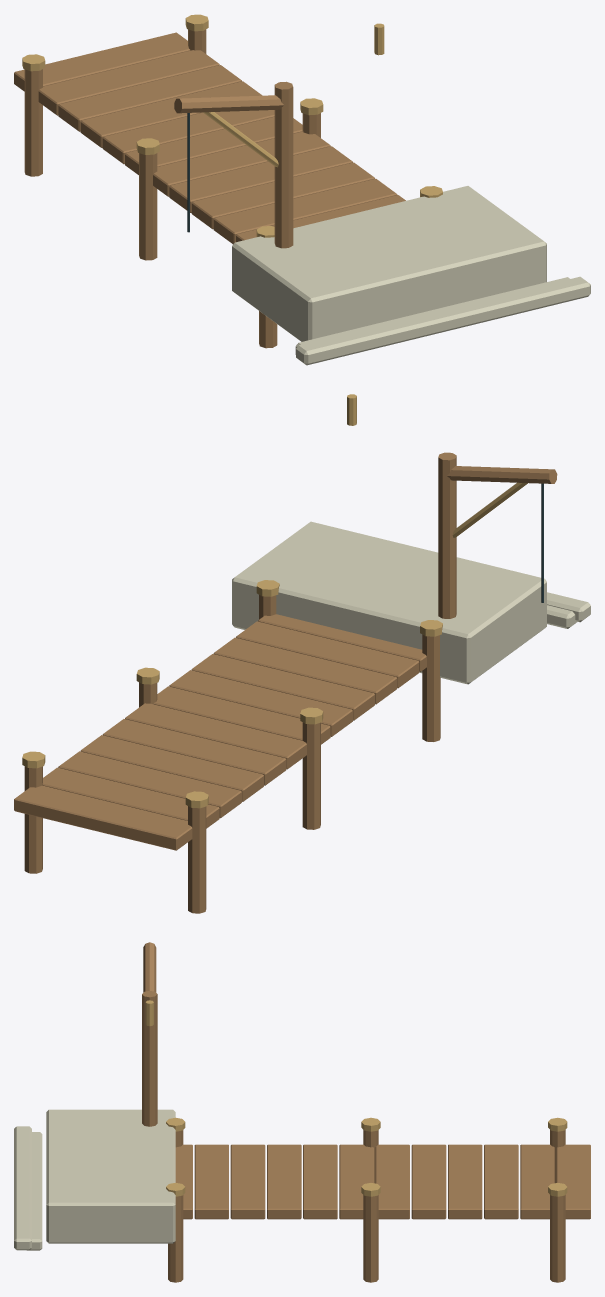
The model's file is level_13.glb.
3 renders of one model, top to bottom at view 1: azimuth 30°, elevation 25°; view 2: azimuth 150°, elevation 25°; view 3: azimuth 270°, elevation 25°, orthographic. The views are drawn at different scales.
Visible parts, largest first — view 1: dock — level 13; view 2: dock — level 13; view 3: dock — level 13.
Part boxes in pixels (x1,y1,x2,y2): dock — level 13: [14, 14, 590, 365]; dock — level 13: [14, 394, 590, 913]; dock — level 13: [14, 942, 590, 1282].
Size of the model in its own units: 4.84 by 4.27 by 8.92.
